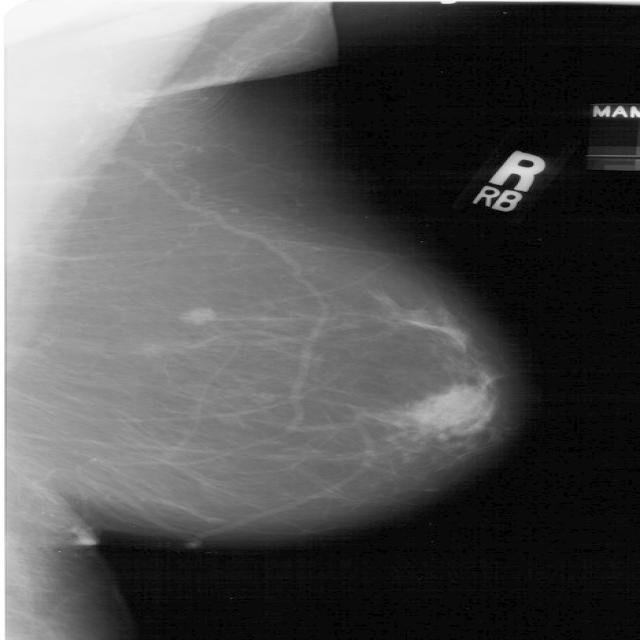tumour: (178, 306, 215, 324)
